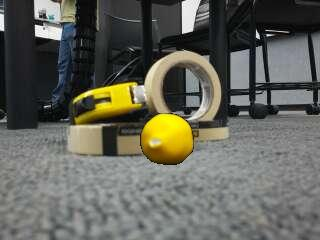lemon: (142, 114, 194, 164)
